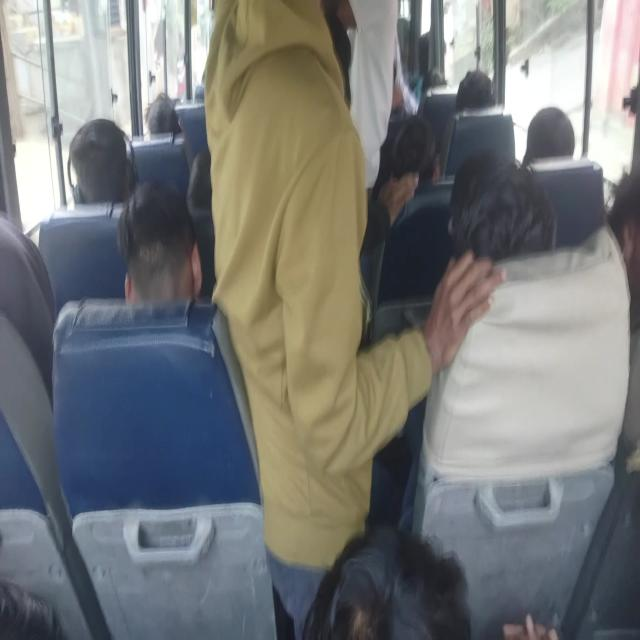person: (212, 1, 384, 370), (299, 543, 570, 640), (0, 217, 57, 551), (444, 160, 540, 285), (67, 112, 143, 211), (124, 192, 190, 295), (599, 160, 640, 306), (520, 105, 577, 187), (392, 128, 444, 209), (326, 0, 396, 52), (192, 146, 227, 213), (464, 66, 498, 130), (144, 93, 180, 149), (413, 33, 454, 73), (419, 64, 446, 90)
